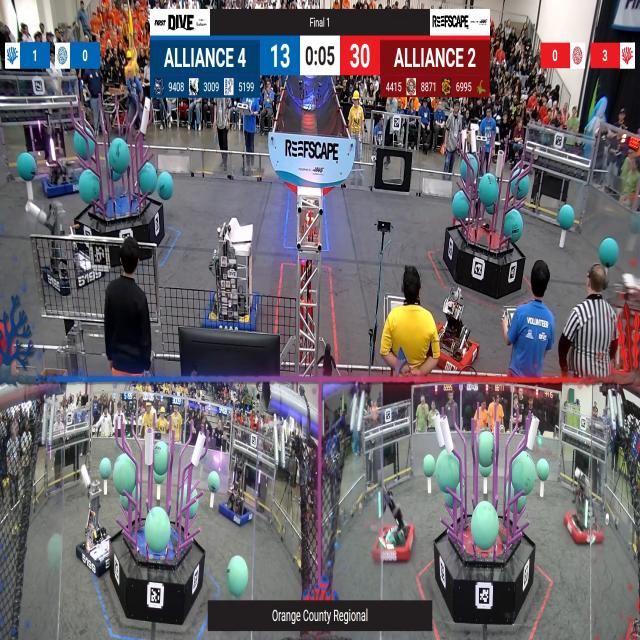scoreboard: (150, 36, 490, 98)
